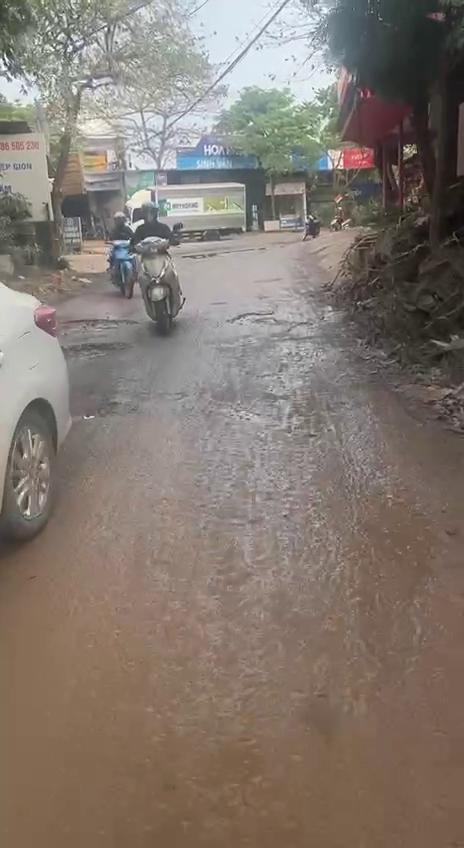pothole: (53, 337, 134, 364), (230, 307, 314, 331), (74, 396, 137, 420), (64, 312, 146, 328)
